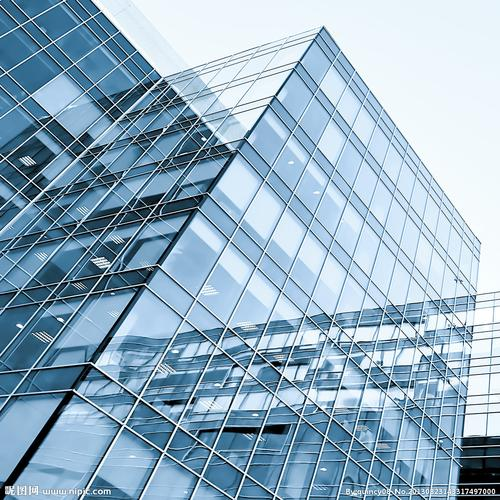buildings: (3, 73, 473, 499)
